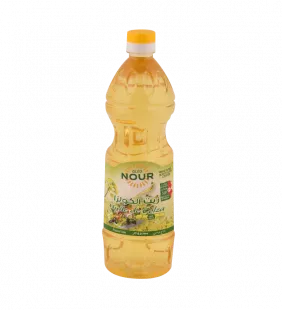OLEO NOUR: (92, 20, 181, 284)
